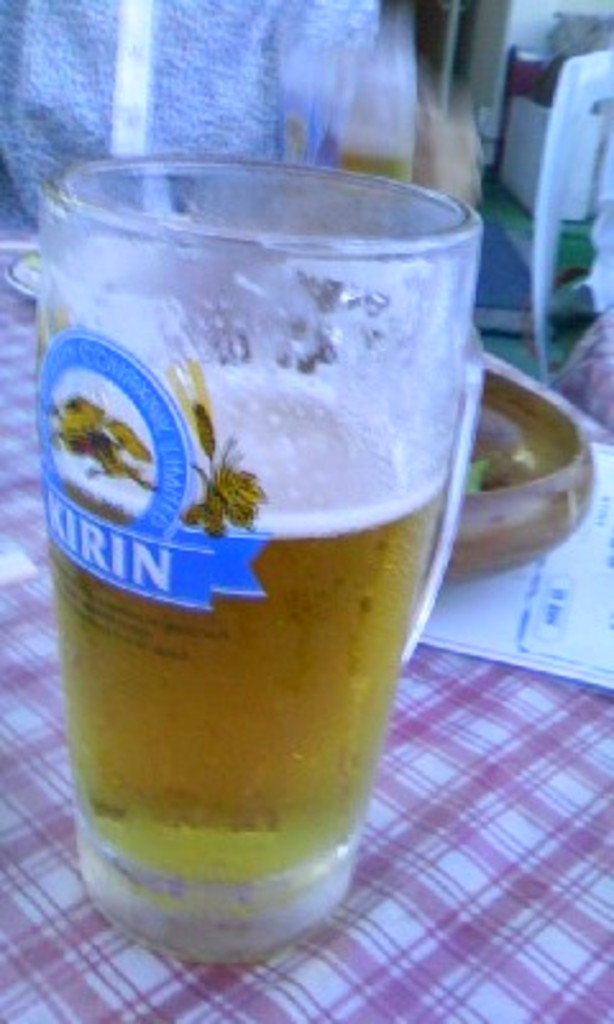Beer: (17, 130, 475, 924)
